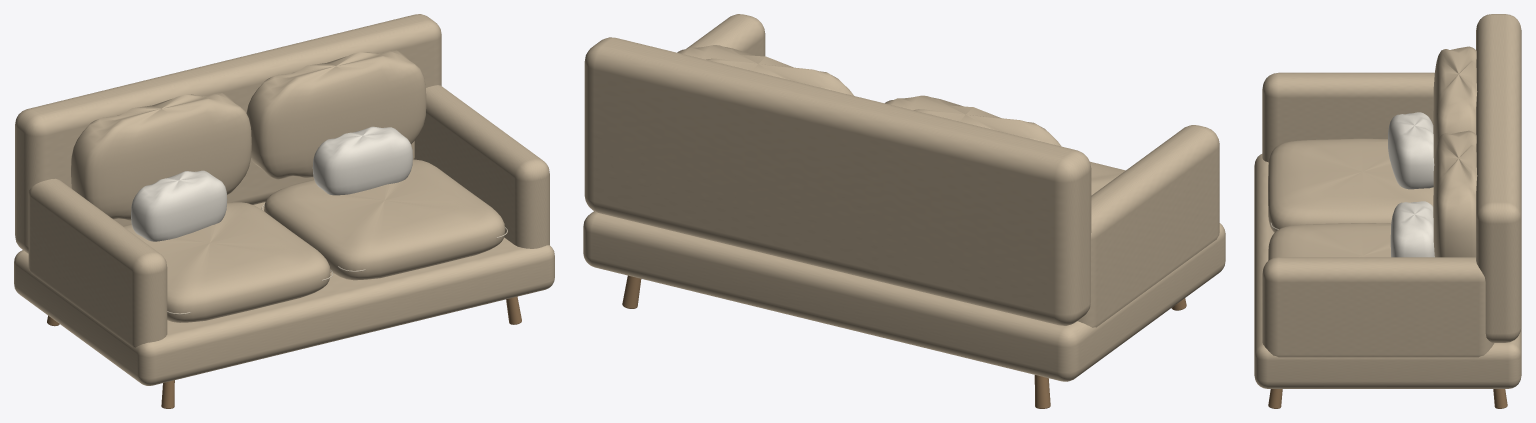
3 renders of one model, left to right at view 1: azimuth 30°, elevation 25°; view 2: azimuth 150°, elevation 25°; view 3: azimuth 270°, elevation 25°, orthographic. The views are drawn at different scales.
Visible parts, largest first — view 1: upholstered_base, back_frame, seat_1, cushion_back_1, arm_-1, cushion_back_0, seat_0, arm_1, scatter_pillow_1, scatter_pillow_0; view 2: back_frame, upholstered_base, arm_-1, cushion_back_1, cushion_back_0, arm_1, seat_0; view 3: arm_1, back_frame, upholstered_base, seat_0, arm_-1, cushion_back_1, seat_1, cushion_back_0, scatter_pillow_0, scatter_pillow_1, leg_1_-1, leg_1_1.
Boxes of the visible parts, x1,y1,x2,y2 form: upholstered_base: [14, 202, 554, 385]; back_frame: [15, 14, 441, 253]; seat_1: [264, 159, 505, 280]; cushion_back_1: [246, 50, 426, 179]; arm_-1: [28, 178, 167, 347]; cushion_back_0: [71, 93, 251, 220]; seat_0: [123, 202, 330, 322]; arm_1: [414, 85, 549, 248]; scatter_pillow_1: [312, 126, 412, 195]; scatter_pillow_0: [131, 170, 227, 241]; back_frame: [584, 37, 1091, 325]; upholstered_base: [583, 211, 1225, 381]; arm_-1: [1077, 125, 1219, 327]; cushion_back_1: [677, 45, 853, 95]; cushion_back_0: [885, 95, 1061, 146]; arm_1: [686, 14, 765, 56]; seat_0: [1090, 161, 1125, 195]; arm_1: [1262, 257, 1494, 357]; back_frame: [1476, 14, 1521, 342]; upholstered_base: [1254, 154, 1521, 388]; seat_0: [1268, 138, 1433, 232]; arm_-1: [1262, 72, 1434, 162]; cushion_back_1: [1433, 130, 1477, 257]; seat_1: [1268, 223, 1390, 260]; cushion_back_0: [1433, 46, 1477, 163]; scatter_pillow_0: [1388, 112, 1434, 189]; scatter_pillow_1: [1390, 201, 1434, 257]; leg_1_-1: [1493, 389, 1507, 408]; leg_1_1: [1268, 389, 1282, 408].
Bounding box in the file's own units: 1.6 × 0.8 × 0.9.
Materials: 4 (3 with a texture image).
